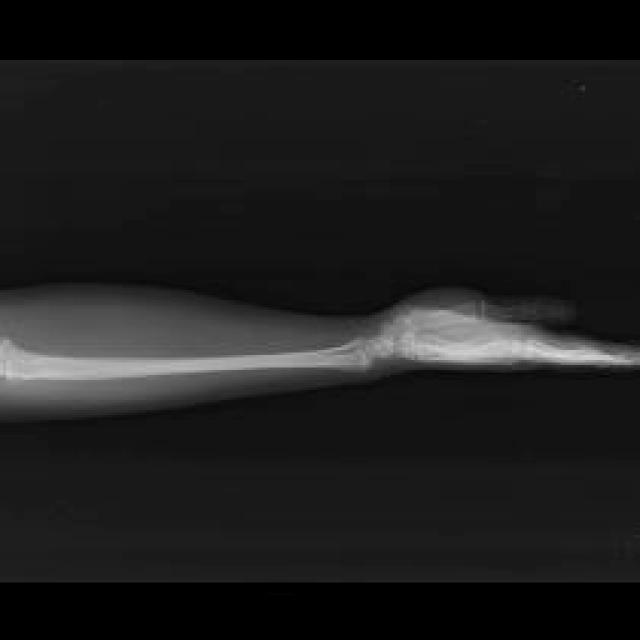normal: (0, 299, 639, 381)
